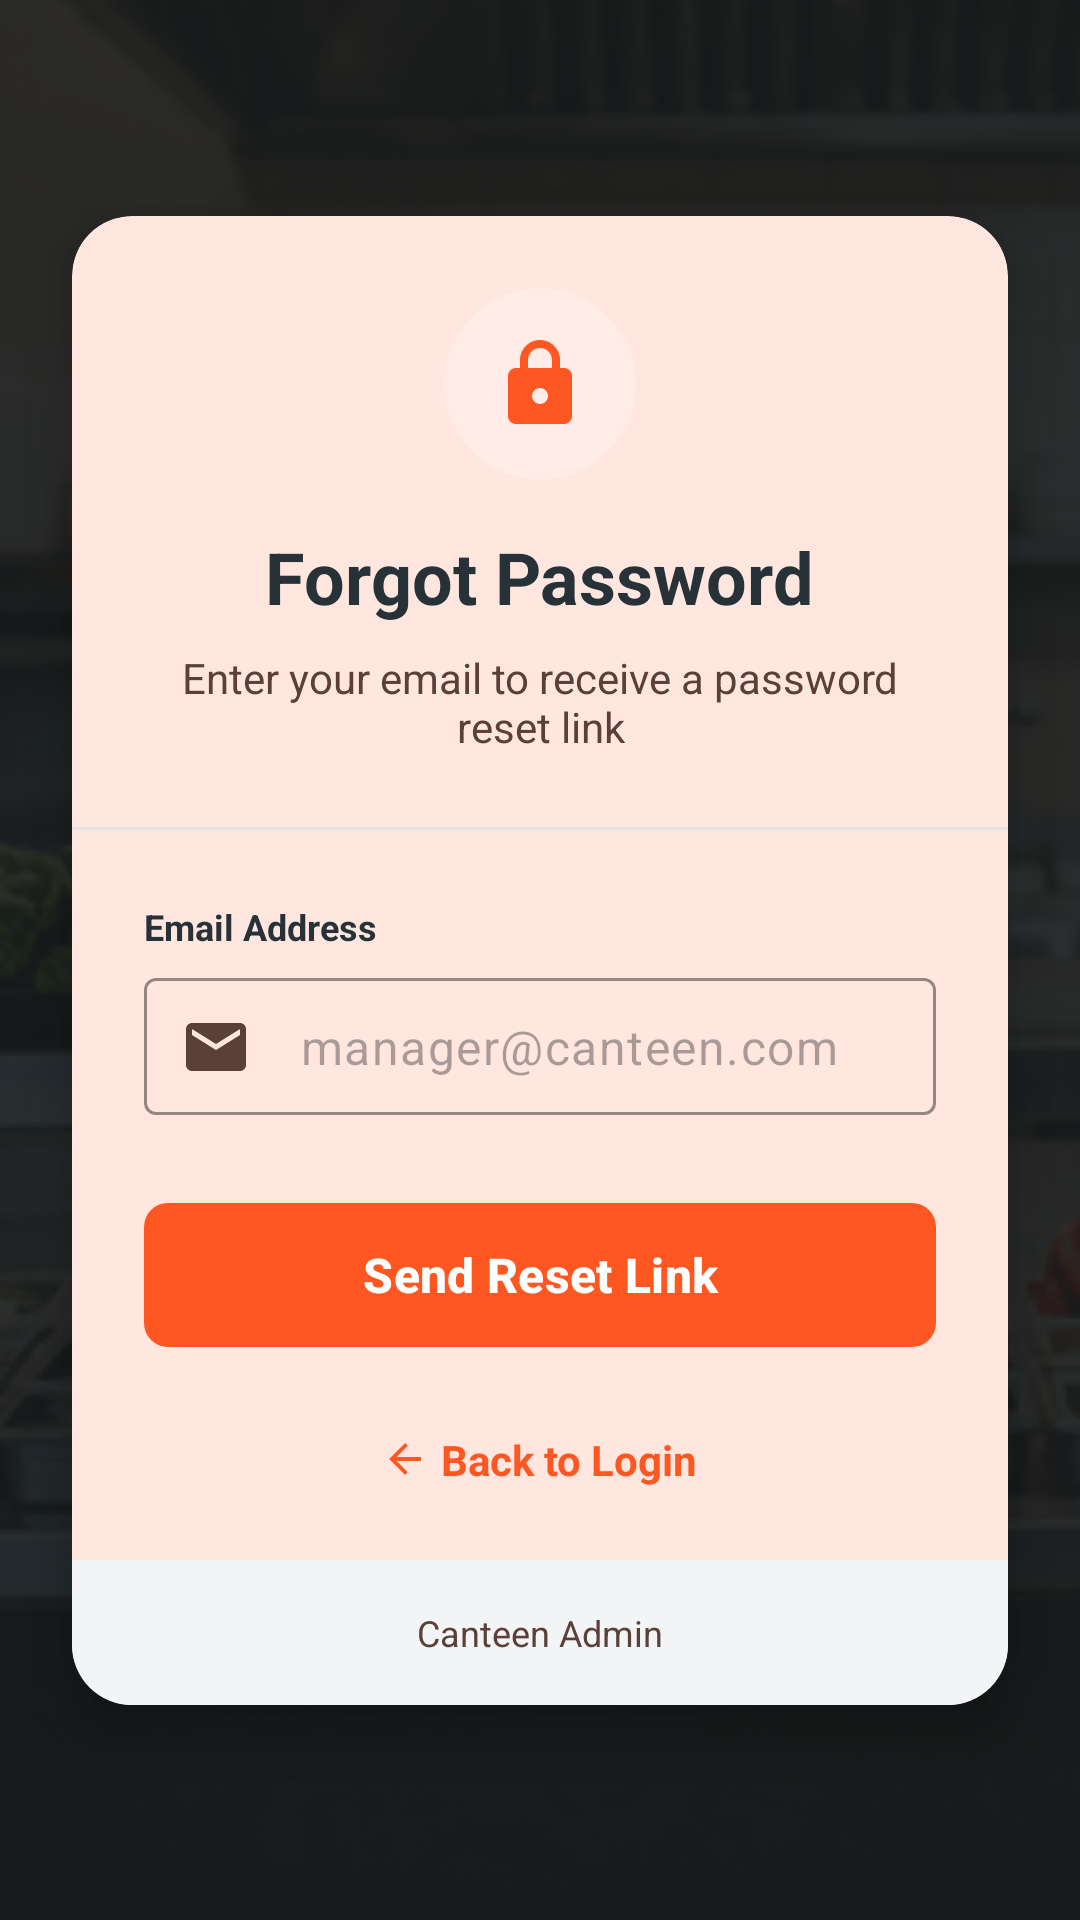

Icons on this 1080x1920 Android screen, each with the point to tap as point (x, y):
lock: point (540, 382)
